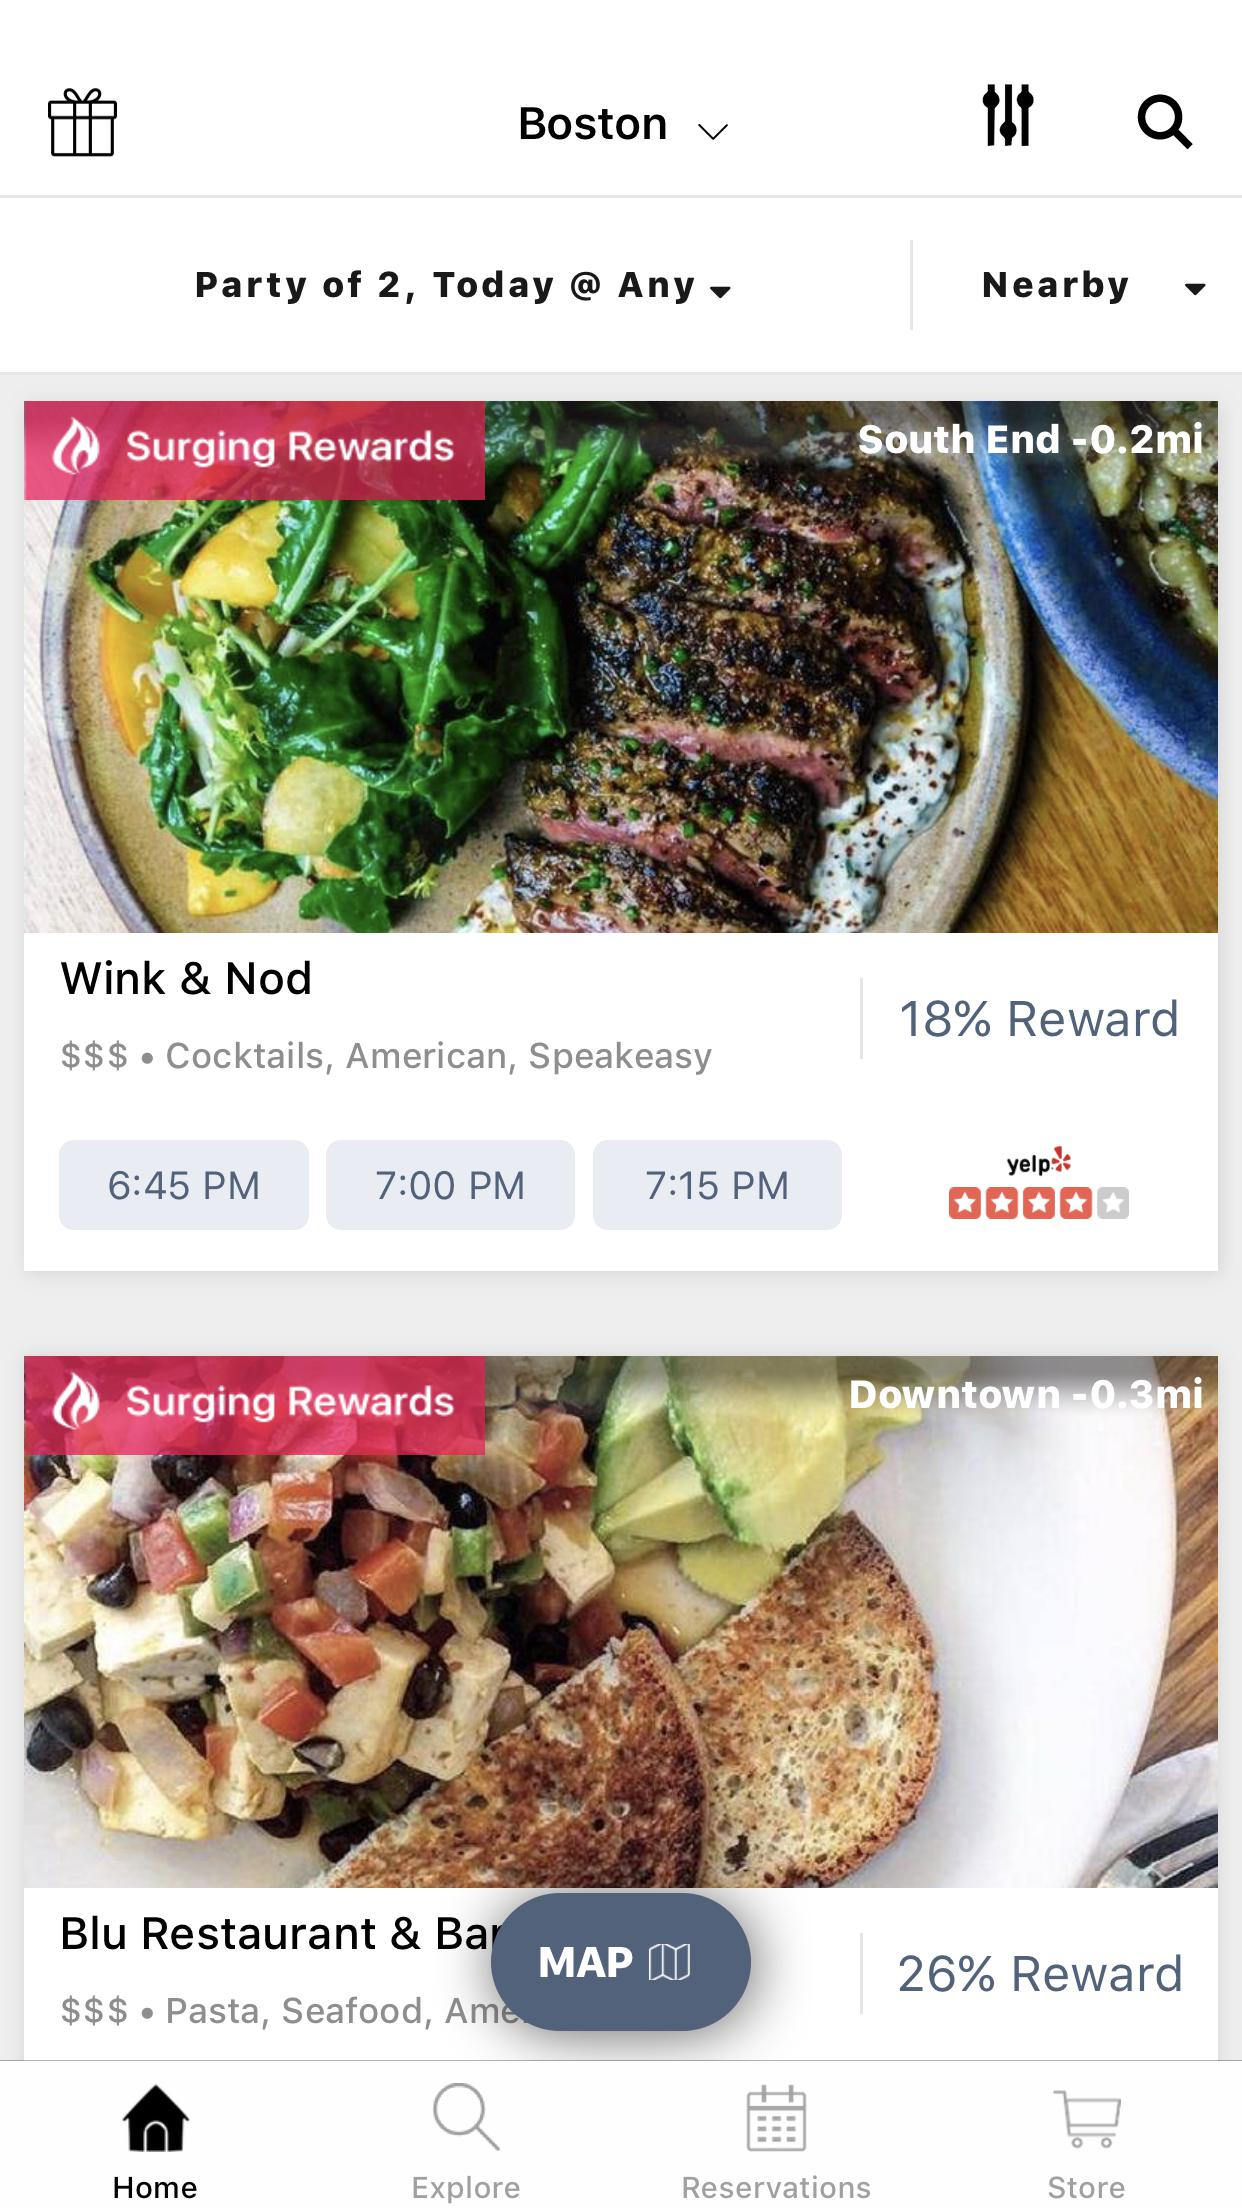Icon: (948, 1186, 1131, 1221), (42, 83, 117, 158), (428, 2081, 500, 2152), (1049, 2087, 1124, 2147), (120, 2084, 187, 2150), (745, 2084, 808, 2153), (1136, 91, 1197, 152), (983, 79, 1034, 149), (695, 121, 732, 140), (1184, 284, 1209, 297), (710, 287, 732, 300)
Image: (26, 1356, 1219, 1890), (26, 400, 1218, 933), (49, 1368, 100, 1429), (52, 417, 102, 478), (1005, 1143, 1072, 1177)
Text: (61, 1040, 714, 1075), (55, 1909, 503, 1956), (61, 1991, 525, 2031), (196, 270, 695, 306), (895, 1949, 1183, 1999), (127, 428, 456, 470), (123, 1385, 453, 1422), (849, 1375, 1203, 1410), (858, 422, 1203, 456), (899, 998, 1178, 1039), (61, 958, 312, 996), (679, 2172, 873, 2203), (520, 103, 667, 143), (983, 268, 1130, 306), (411, 2173, 517, 2206), (1045, 2170, 1125, 2203), (109, 2173, 199, 2200)
TextButton: (490, 1890, 752, 2034), (326, 1139, 576, 1231), (593, 1139, 843, 1231), (59, 1140, 311, 1231)
